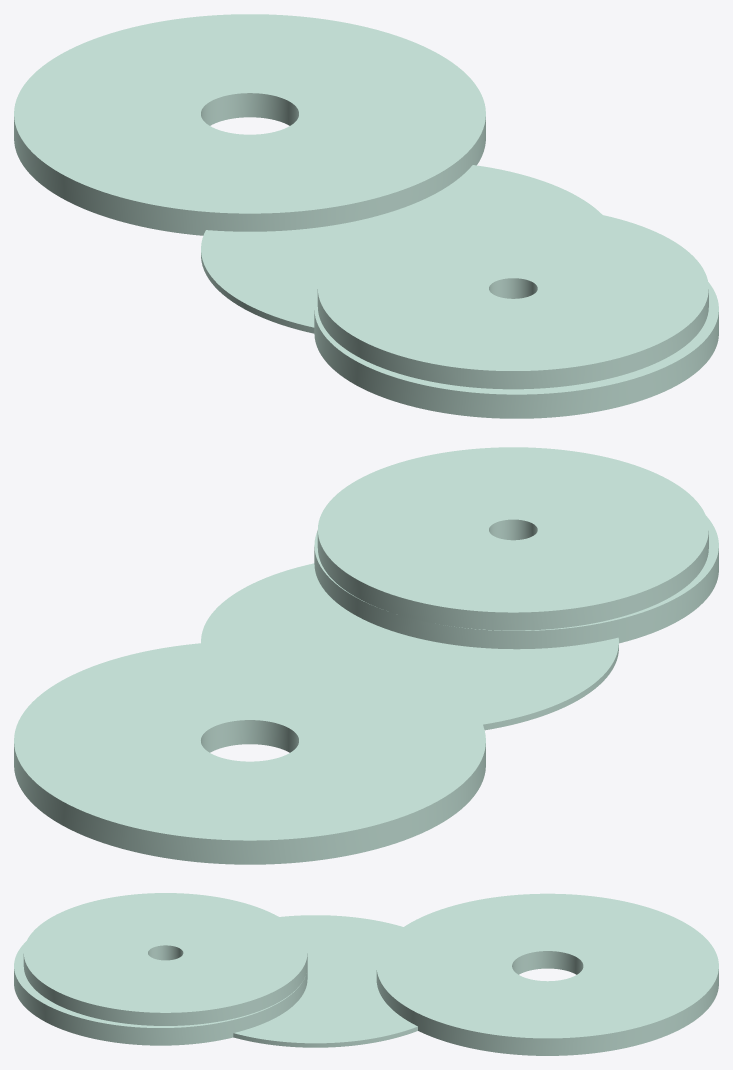
The picture shows the model from 3 angles, top to bottom: view 1: azimuth 30°, elevation 25°; view 2: azimuth 150°, elevation 25°; view 3: azimuth 270°, elevation 25°; orthographic projection. The views are drawn at different scales.
Parts seen in each view (by area): view 1: Renderer Node; view 2: Renderer Node; view 3: Renderer Node.
Part boxes in pixels (x1,y1,x2,y2): Renderer Node: (14,14,718,418); Renderer Node: (14,447,718,864); Renderer Node: (14,893,718,1055).
Size of the model in its own units: 0.5526 by 0.0547 by 1.14.
